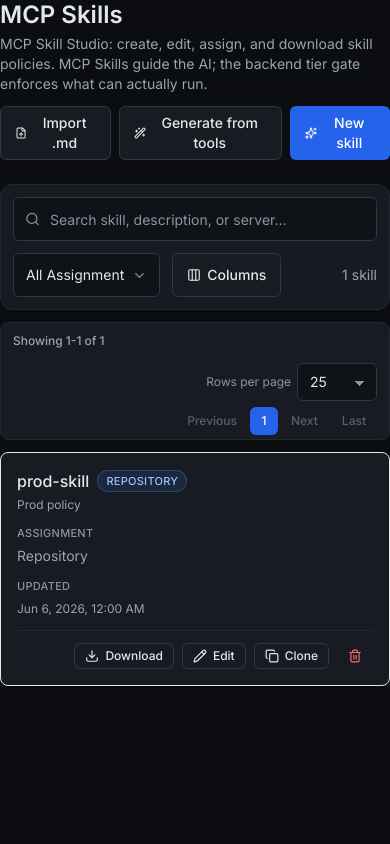
it: MCP Skills page › shows fail-closed coverage for an integration-bound skill
Click the button "Edit".
click(214, 656)  # box [182,643,246,669]
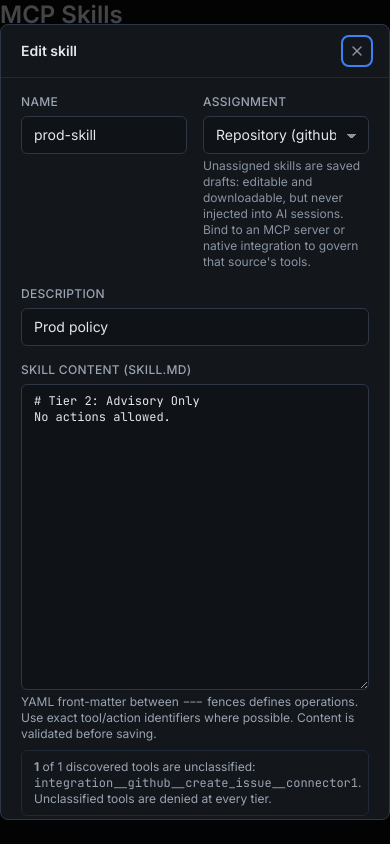
Expected: the text "Unclassified tools are denied at every tier" is shown, [34,775,362,806]
